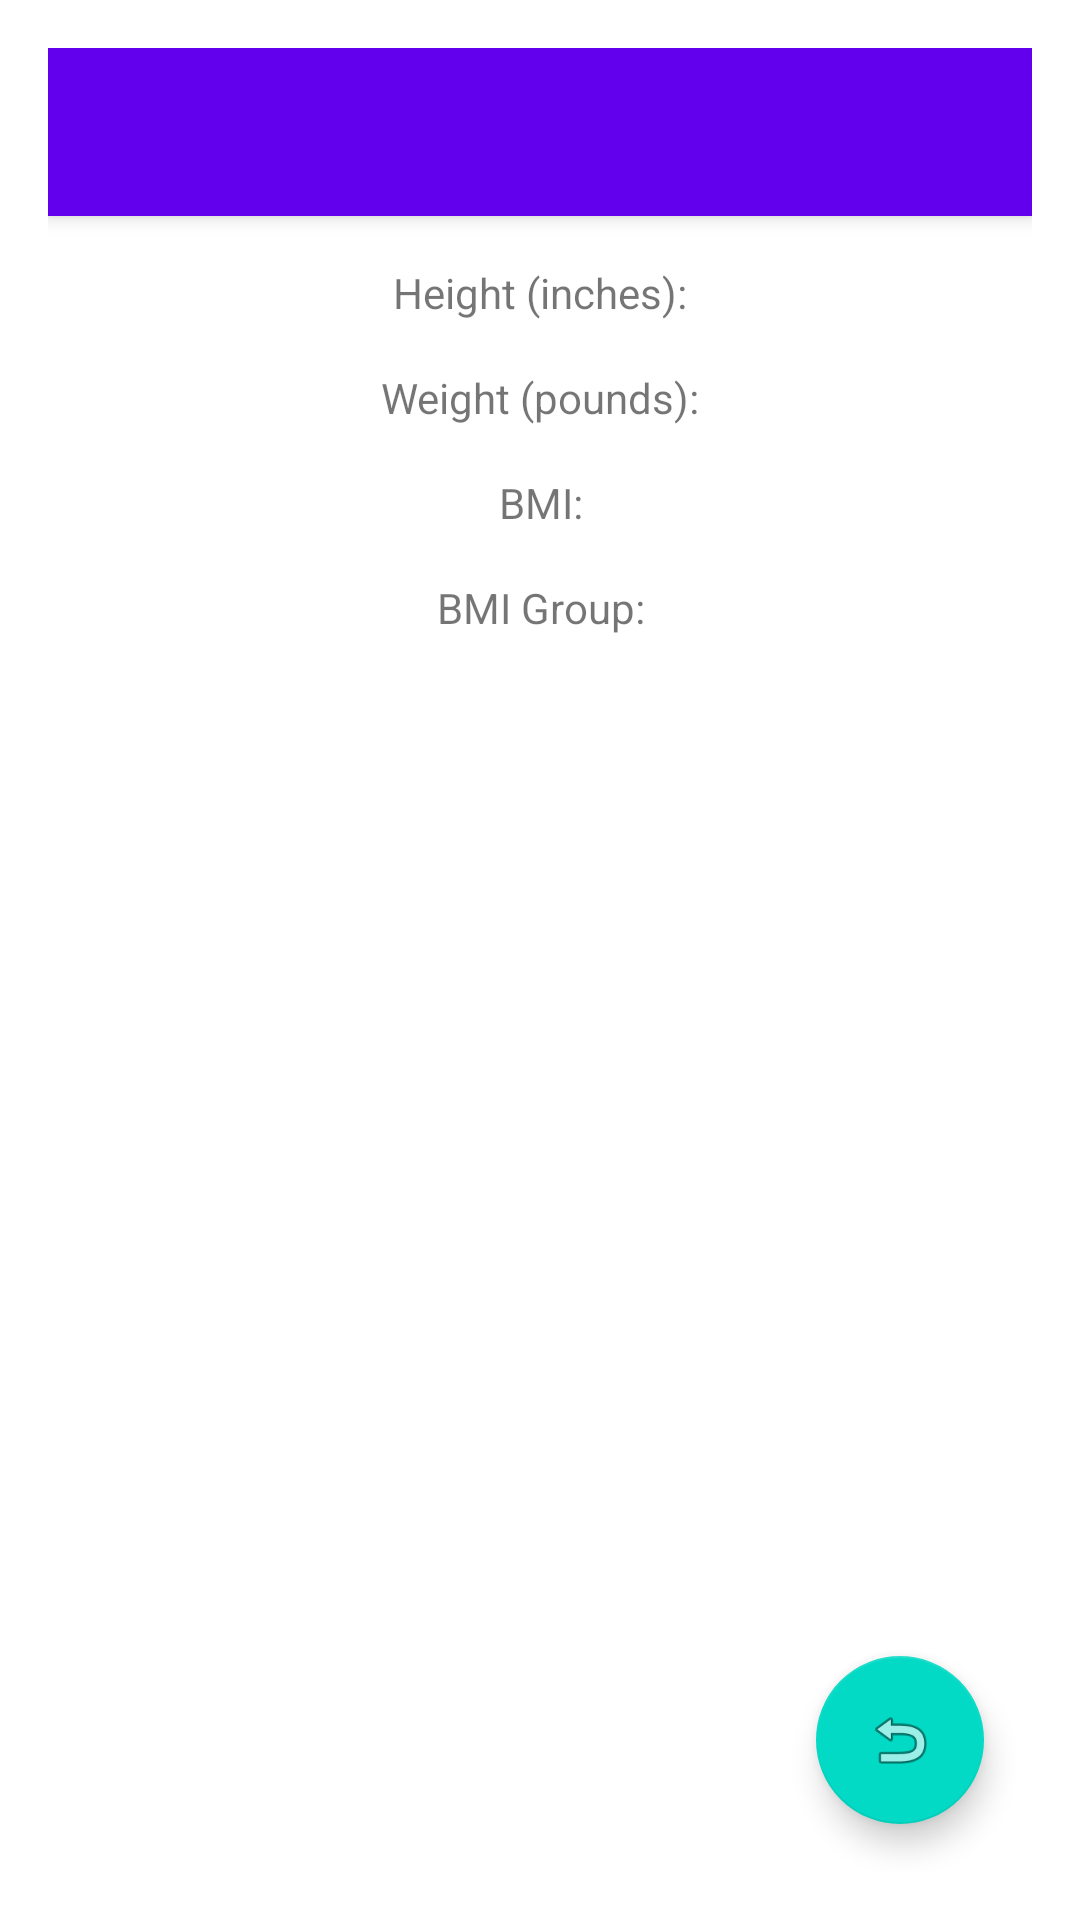

Screen size 1080 x 1920. Icon name, then its box in pixels as rect(x1, y1, x2, y2):
revert: rect(816, 1656, 936, 1776)
